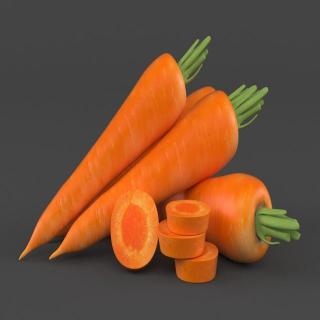carrot: (18, 53, 189, 265), (47, 87, 241, 265), (168, 170, 272, 264)
